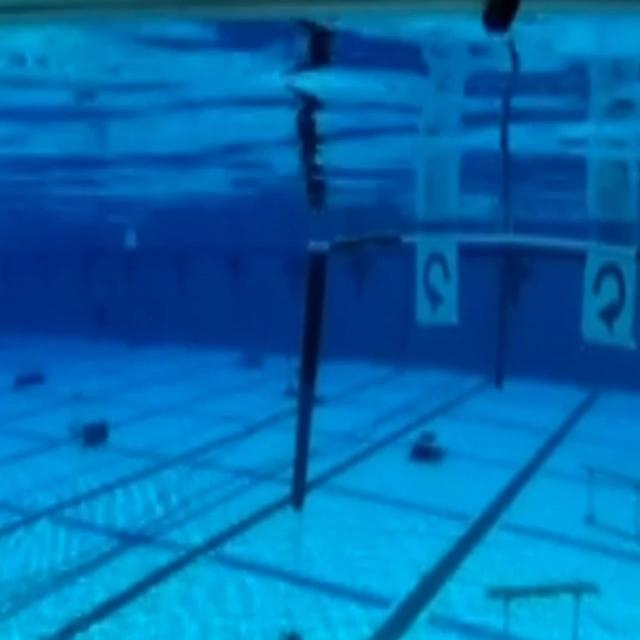Gate: (279, 220, 640, 531)
